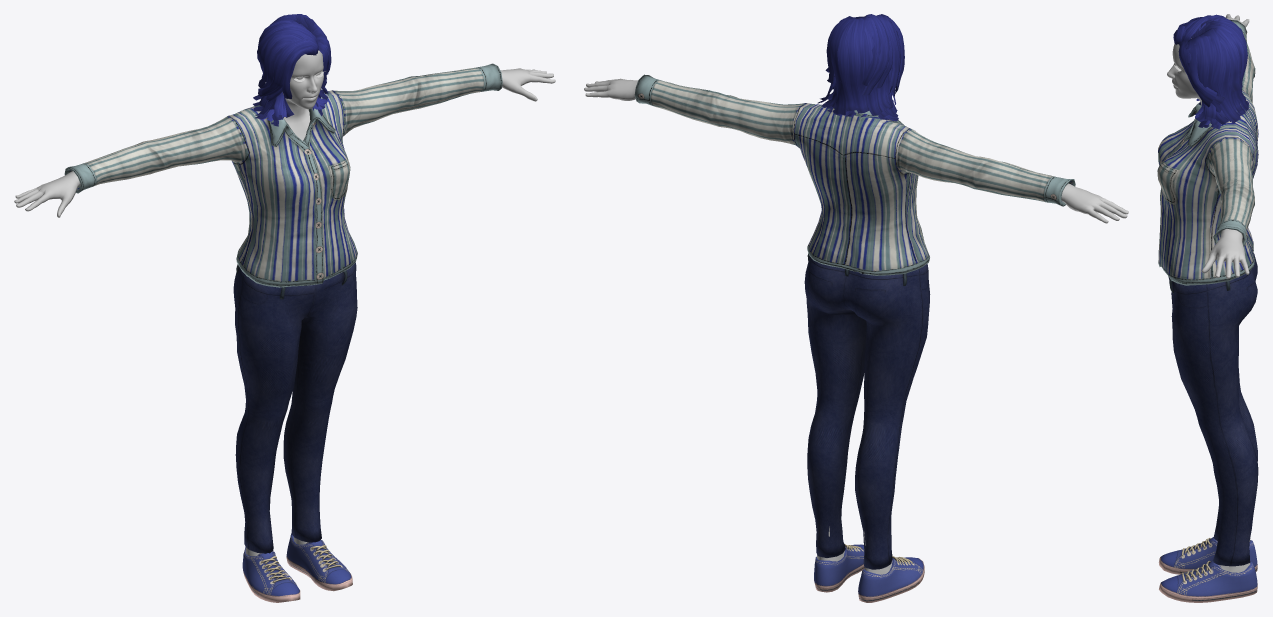
File: eighth_clothes_hair.obj
3 renders of one model, left to right at view 1: azimuth 30°, elevation 25°; view 2: azimuth 150°, elevation 25°; view 3: azimuth 270°, elevation 25°, orthographic.
Visible parts, largest first — view 1: Tops, Bottoms, Hair, Body, Shoes; view 2: Tops, Bottoms, Hair, Shoes, Body; view 3: Bottoms, Tops, Hair, Shoes, Body.
Part boxes in pixels (bbox=[...]): Tops: bbox=[64, 63, 502, 287]; Bottoms: bbox=[233, 262, 357, 553]; Hair: bbox=[253, 14, 331, 126]; Body: bbox=[14, 50, 555, 556]; Shoes: bbox=[242, 533, 352, 602]; Tops: bbox=[634, 74, 1075, 275]; Bottoms: bbox=[804, 253, 930, 569]; Hair: bbox=[817, 14, 904, 121]; Shoes: bbox=[814, 544, 924, 602]; Body: bbox=[584, 78, 1128, 574]; Bottoms: bbox=[1168, 253, 1258, 566]; Tops: bbox=[1157, 19, 1258, 285]; Hair: bbox=[1173, 14, 1248, 129]; Shoes: bbox=[1158, 537, 1257, 602]; Body: bbox=[1167, 14, 1250, 572].
Bounding box in the file's own units: 17.95 × 17.93 × 2.92.
